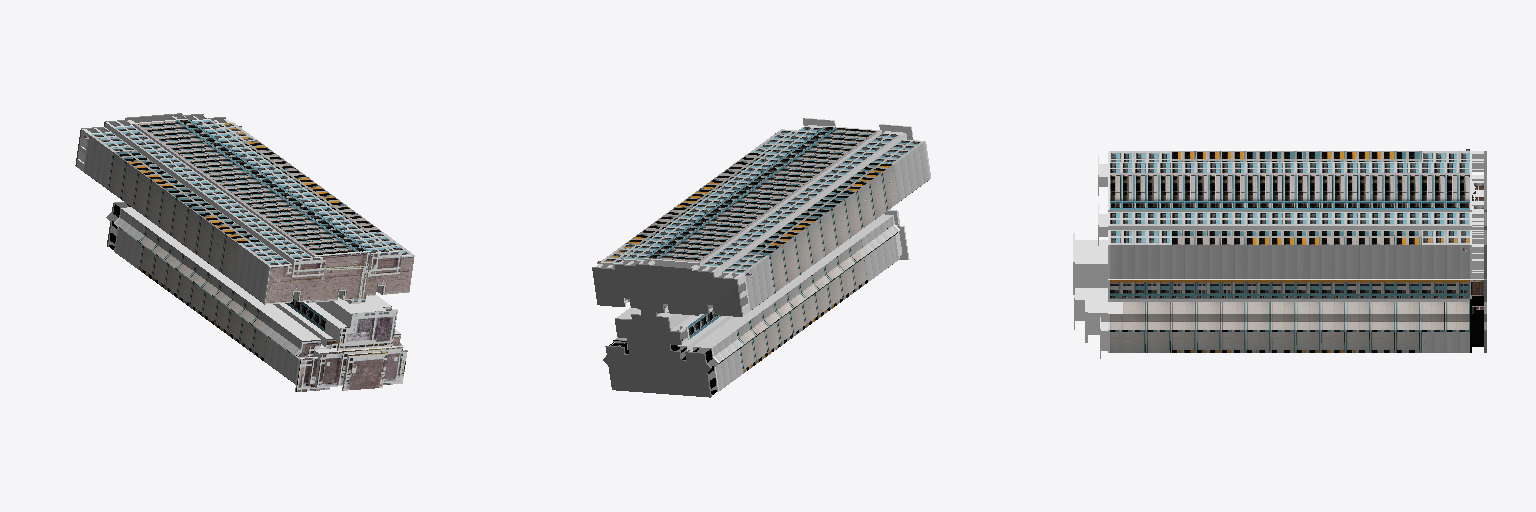
The picture shows the model from 3 angles: view 1: azimuth 30°, elevation 25°; view 2: azimuth 150°, elevation 25°; view 3: azimuth 270°, elevation 25°; orthographic projection.
Visible parts, largest first — view 1: polygon.824; view 2: polygon.824; view 3: polygon.824.
Part boxes in pixels (x1,y1,x2,y2): polygon.824: (75, 113, 414, 391); polygon.824: (592, 118, 930, 397); polygon.824: (1073, 149, 1486, 358).
Size of the model in its own units: 41.26 by 38.3 by 94.75.
1 materials, 1 textured.